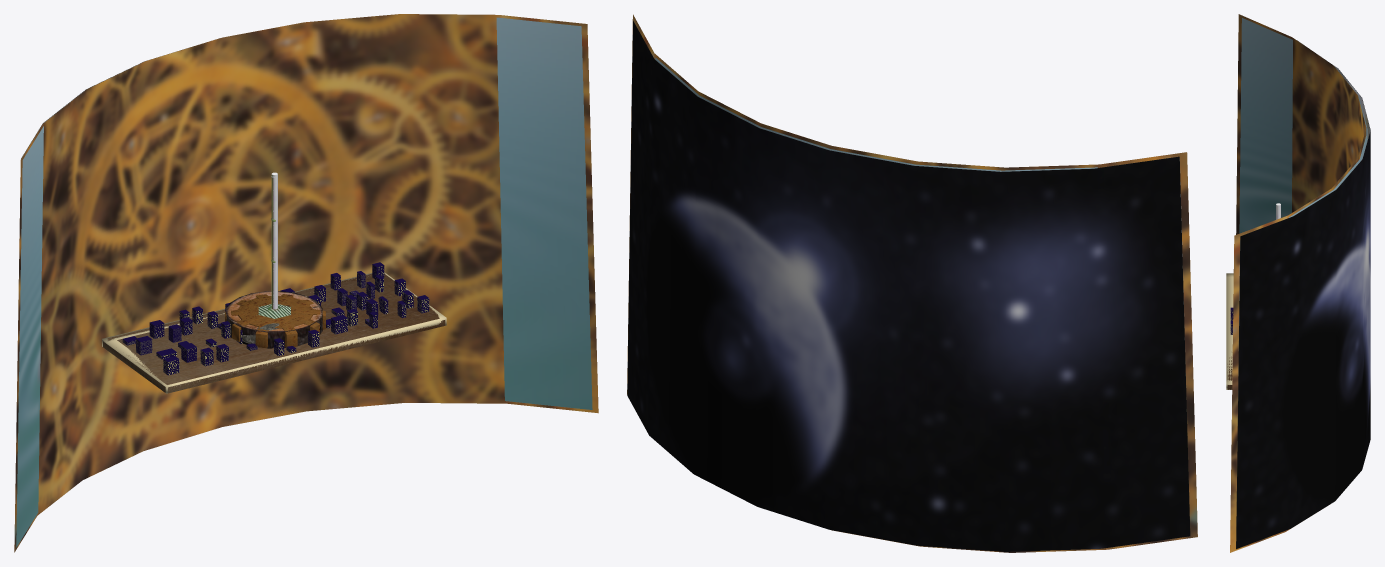
The model's file is Levels_v01.fbx.
The picture shows the model from 3 angles, left to right: view 1: azimuth 30°, elevation 25°; view 2: azimuth 150°, elevation 25°; view 3: azimuth 270°, elevation 25°; orthographic projection. The views are drawn at different scales.
Parts seen in each view (by area): view 1: Steam_Env, Zen_Env, Basic_Base, SciFi_Base, Steam_Disc, Zen_Base, Basic_Disc; view 2: SciFi_Env, Steam_Env, Zen_Env; view 3: SciFi_Env, Steam_Env, Zen_Env, Zen_Base, Basic_Env.
Boxes of the visible parts, x1,y1,x2,y2 form: Steam_Env: (14, 14, 598, 552); Zen_Env: (16, 17, 592, 547); Basic_Base: (102, 274, 445, 393); SciFi_Base: (122, 262, 429, 375); Steam_Disc: (225, 294, 325, 348); Zen_Base: (102, 272, 446, 393); Basic_Disc: (226, 291, 322, 348); SciFi_Env: (627, 21, 1190, 551); Steam_Env: (627, 14, 1197, 552); Zen_Env: (655, 57, 1097, 171); SciFi_Env: (1236, 40, 1370, 548); Steam_Env: (1230, 14, 1366, 552); Zen_Env: (1239, 18, 1367, 233); Zen_Base: (1226, 273, 1233, 389); Basic_Env: (1236, 41, 1370, 548).
Bounding box in the file's own units: 36.45 × 23.61 × 9.72.
